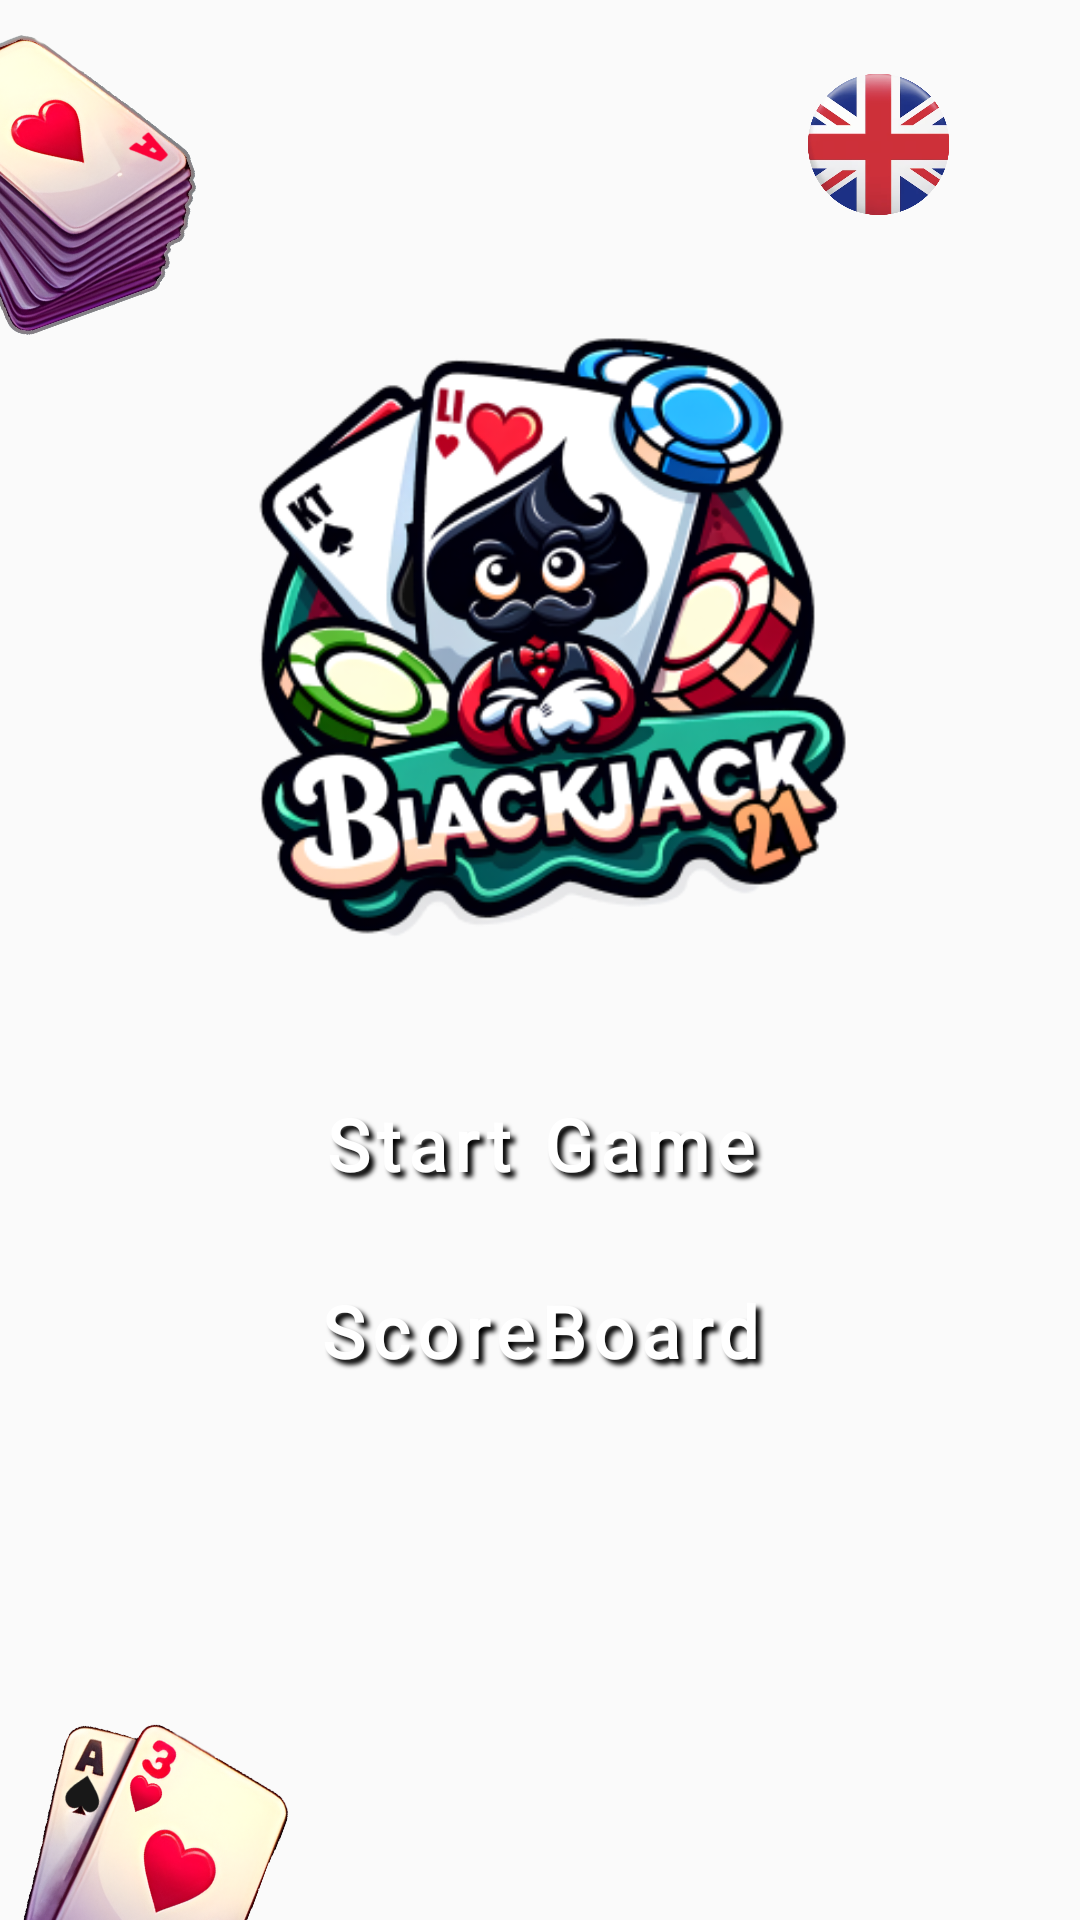

Icon bounding boxes for this 1080*1920 phone screenshot, format (x1, y1, x2, y2):
en flag: (808, 74, 949, 215)
